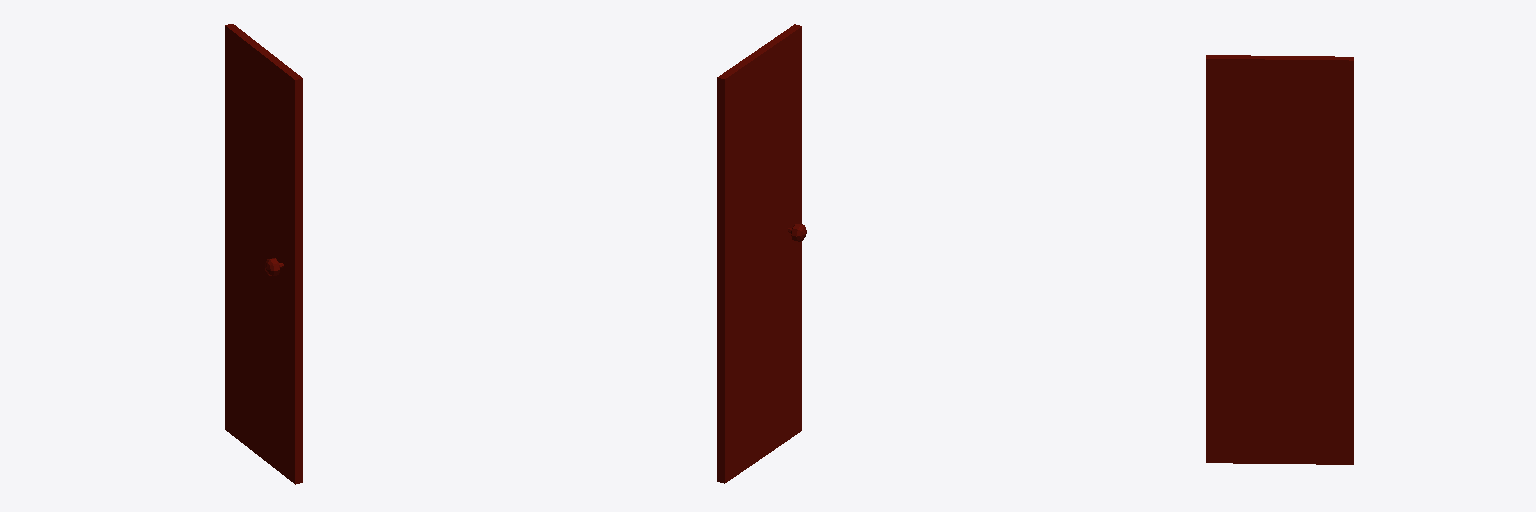
The model's file is door.obj.
The picture shows the model from 3 angles: view 1: azimuth 30°, elevation 25°; view 2: azimuth 150°, elevation 25°; view 3: azimuth 270°, elevation 25°; orthographic projection.
Visible parts, largest first — view 1: dOOR; view 2: dOOR; view 3: dOOR.
Boxes of the visible parts, x1=… form: dOOR: x1=225, y1=24, x2=302, y2=484; dOOR: x1=717, y1=24, x2=806, y2=483; dOOR: x1=1206, y1=55, x2=1353, y2=464.
Size of the model in its own units: 0.1552 by 2.17 by 0.7195.